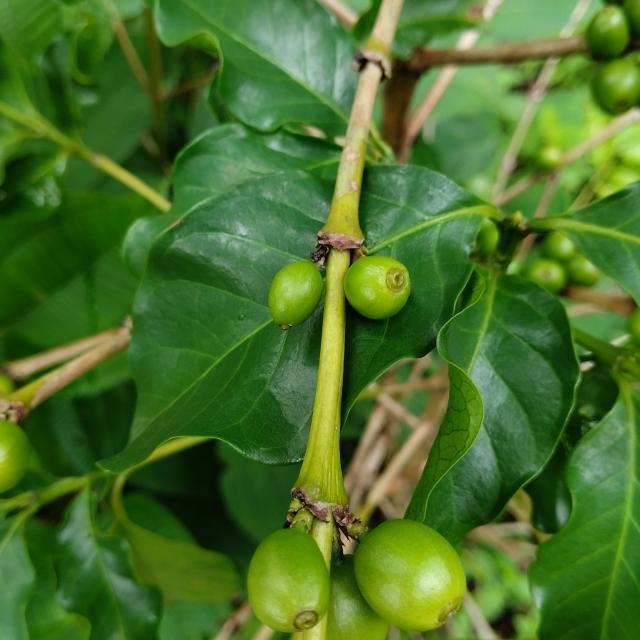green: (354, 520, 467, 632), (248, 530, 330, 634), (326, 556, 390, 640), (344, 256, 411, 319), (268, 261, 324, 330)
